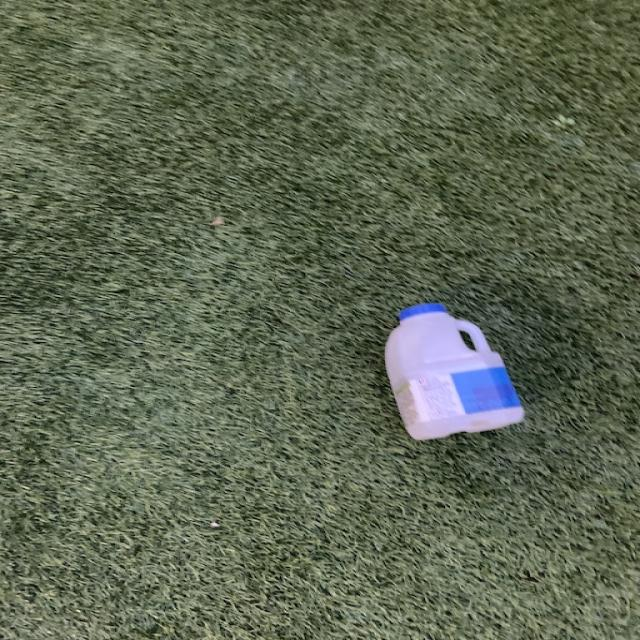HDPEM: (376, 303, 528, 447)
